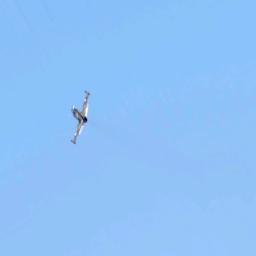Airplane: (67, 90, 92, 146)
